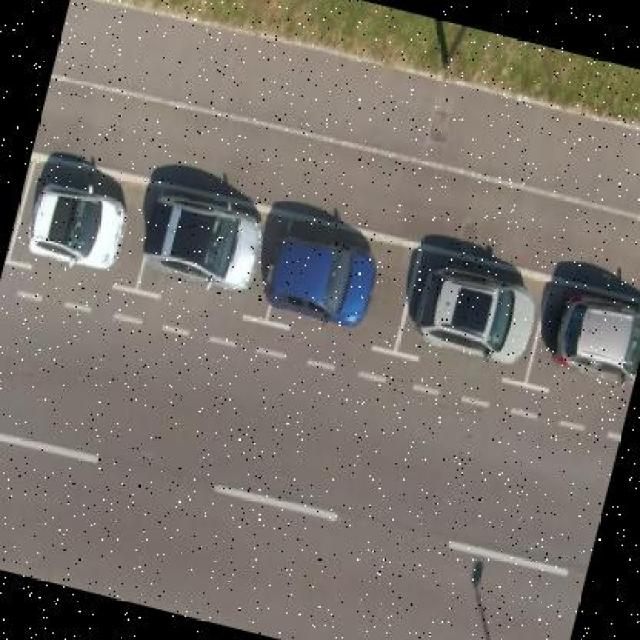Car: (136, 189, 272, 295), (260, 224, 383, 332), (409, 273, 538, 367), (23, 180, 132, 280), (542, 290, 640, 391)
